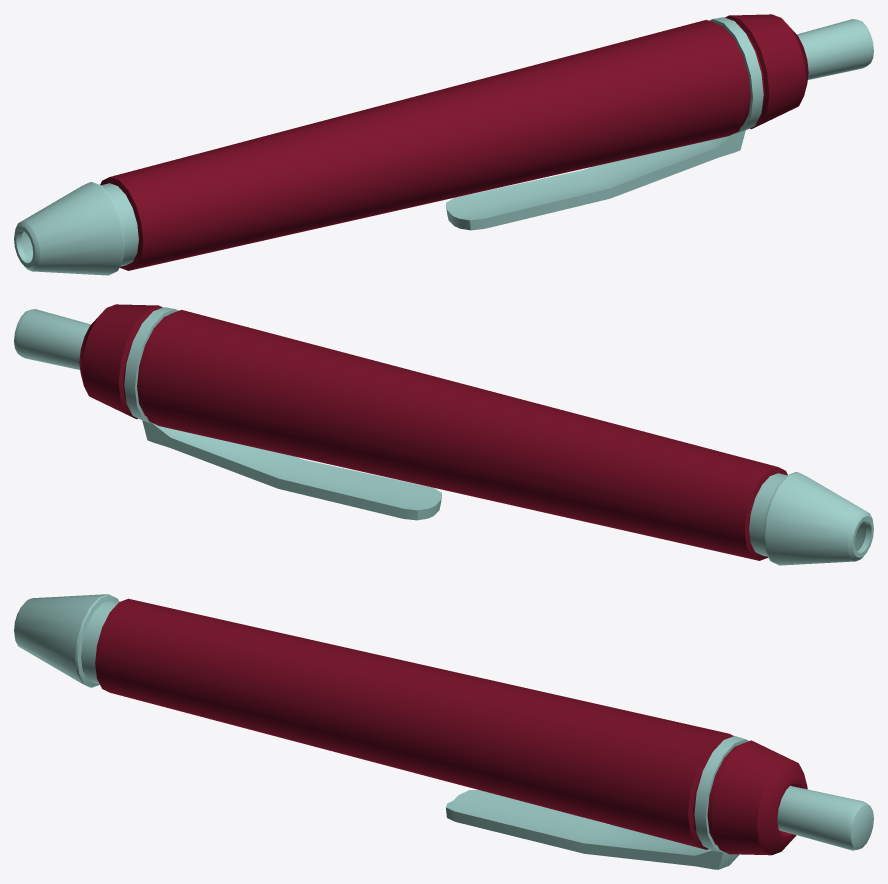
The model's file is Pen.fbx.
The picture shows the model from 3 angles, top to bottom: view 1: azimuth 30°, elevation 25°; view 2: azimuth 150°, elevation 25°; view 3: azimuth 330°, elevation 25°; orthographic projection.
Parts seen in each view (by area): view 1: Pen; view 2: Pen; view 3: Pen.
Boxes of the visible parts, box(x1,y1,x2,y2) form: Pen: box(14, 14, 873, 275); Pen: box(14, 304, 873, 565); Pen: box(14, 594, 873, 869).
Size of the model in its own units: 0.2491 by 0.0397 by 0.0306.
